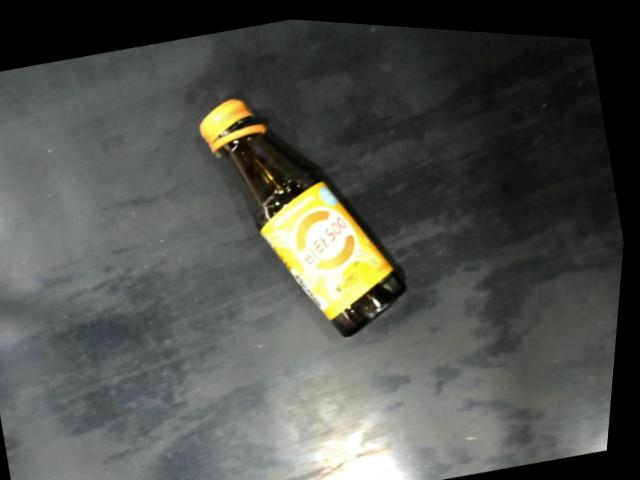glass: (179, 59, 436, 364)
